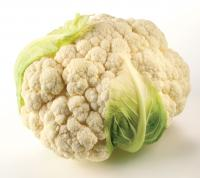cauliflower: (15, 14, 190, 164)
